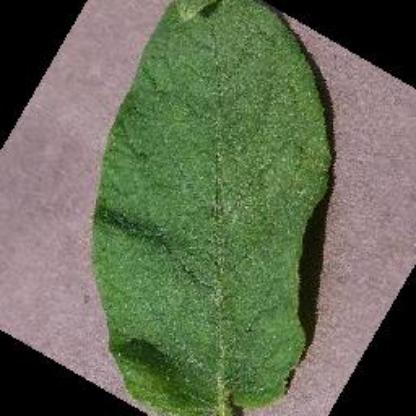Healthy-plant: (88, 0, 336, 416)
